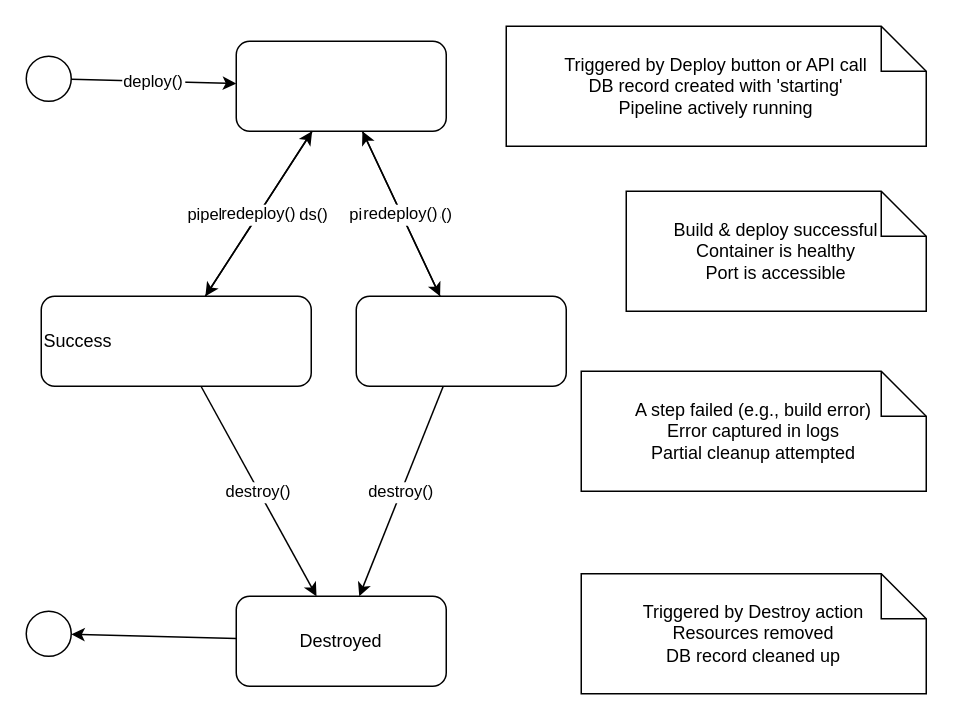
The diagram is 953 pixels wide and 720 high, and some of its shapes have lost their labels. Each missing label, with the centre of its shape:
"Failed" belongs at pixel 460 340.
"Starting" belongs at pixel 340 85.
